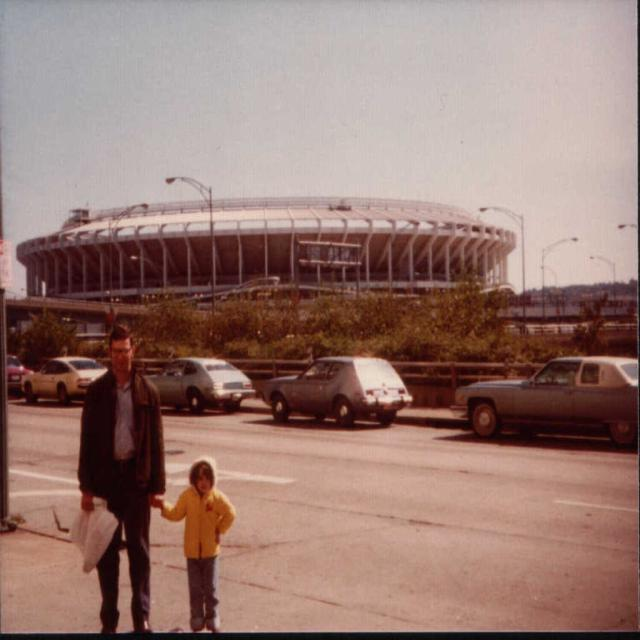car: (455, 350, 634, 445), (259, 350, 413, 428), (146, 350, 259, 419), (22, 354, 108, 403)
